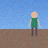person: (28, 12, 40, 36)
